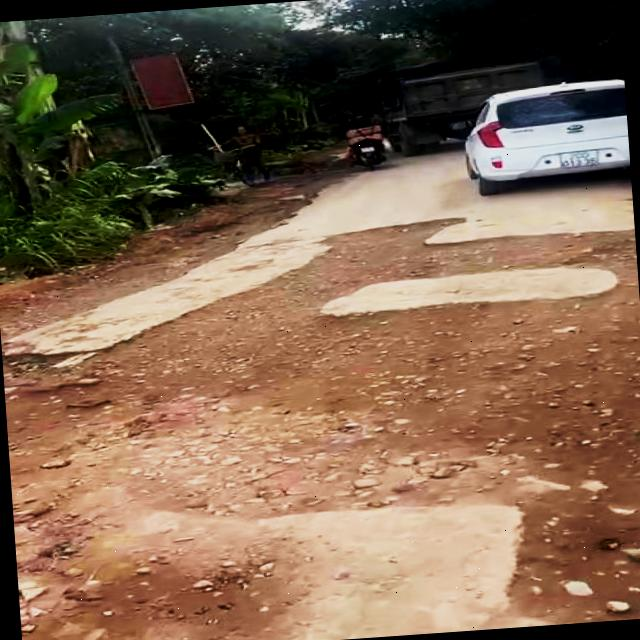pothole: (83, 192, 640, 529), (1, 341, 80, 412)
